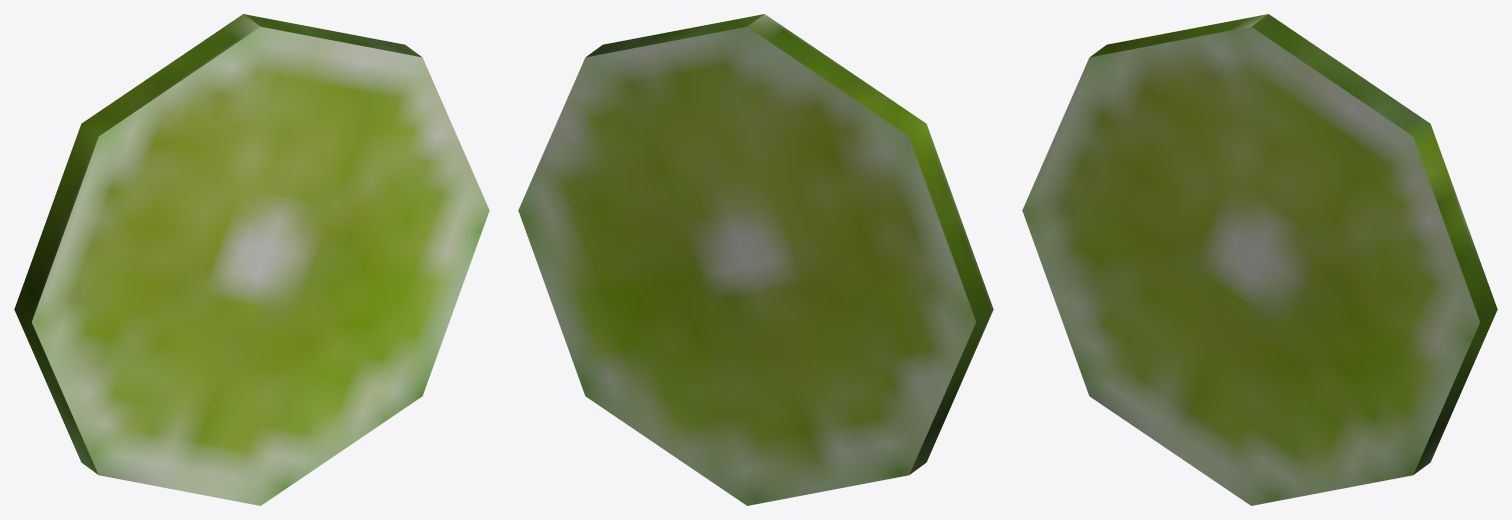
File: Lime.fbx
The picture shows the model from 3 angles, left to right: view 1: azimuth 30°, elevation 25°; view 2: azimuth 150°, elevation 25°; view 3: azimuth 330°, elevation 25°; orthographic projection.
Visible parts, largest first — view 1: Cocktails.003; view 2: Cocktails.003; view 3: Cocktails.003.
Part boxes in pixels (x1=…): Cocktails.003: x1=14, y1=14, x2=489, y2=505; Cocktails.003: x1=518, y1=14, x2=993, y2=505; Cocktails.003: x1=1022, y1=14, x2=1497, y2=505.
Bounding box in the file's own units: 0.1075 × 0.1075 × 0.00708.
